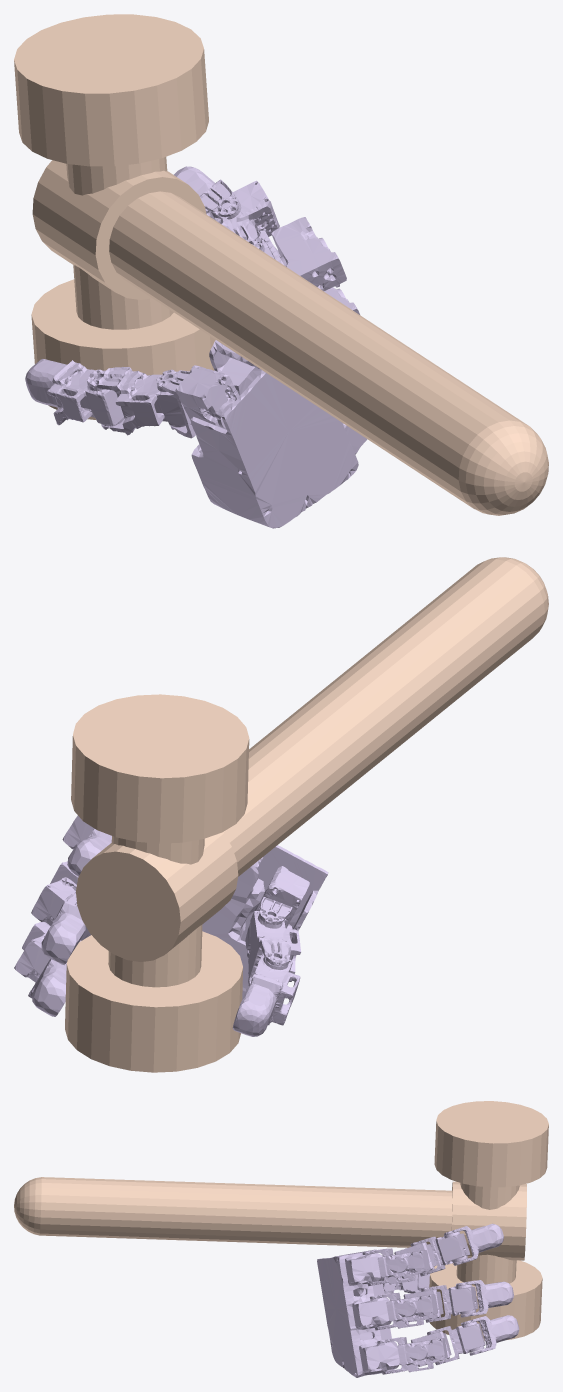
The model's file is 84d6f8dff1544b-final.glb.
3 views of the same model, one above another, from view 1: azimuth 30°, elevation 25°; view 2: azimuth 150°, elevation 25°; view 3: azimuth 270°, elevation 25° (orthographic). The views are drawn at different scales.
Visible parts, largest first — view 1: world, LEAP_hand; view 2: world, LEAP_hand; view 3: world, LEAP_hand.
Part boxes in pixels (x1,y1,x2,y2): world: (14,14,548,515); LEAP_hand: (25,166,367,528); world: (65,557,548,1072); LEAP_hand: (14,815,328,1036); world: (14,1101,548,1340); LEAP_hand: (317,1223,519,1377).
Size of the model in its own units: 0.2057 by 0.2647 by 0.5407.
